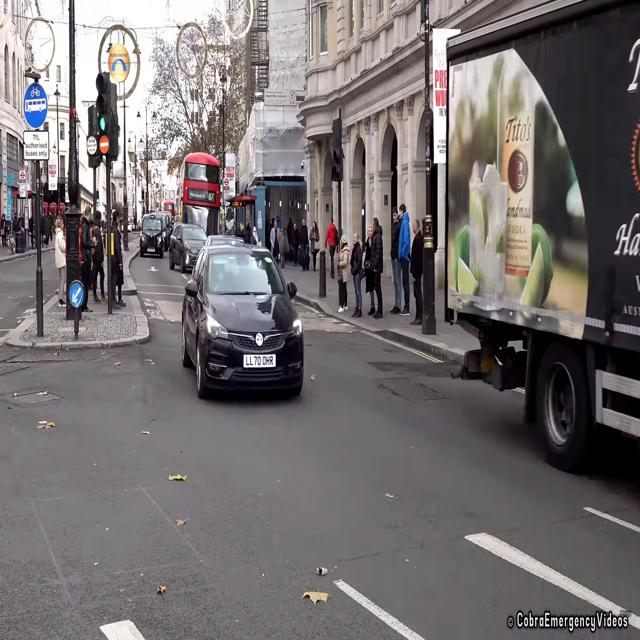emergency-vehicles: (174, 241, 321, 417), (136, 207, 166, 264)
